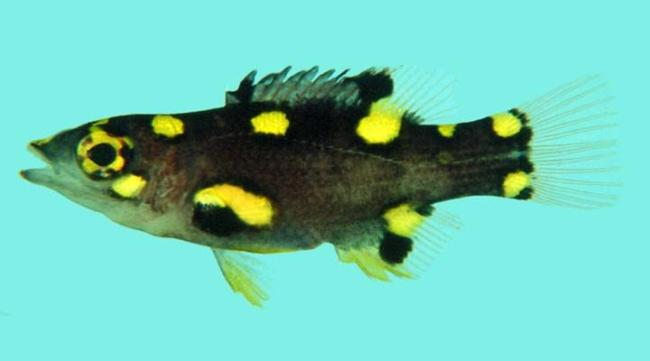fish: (20, 65, 624, 309)
